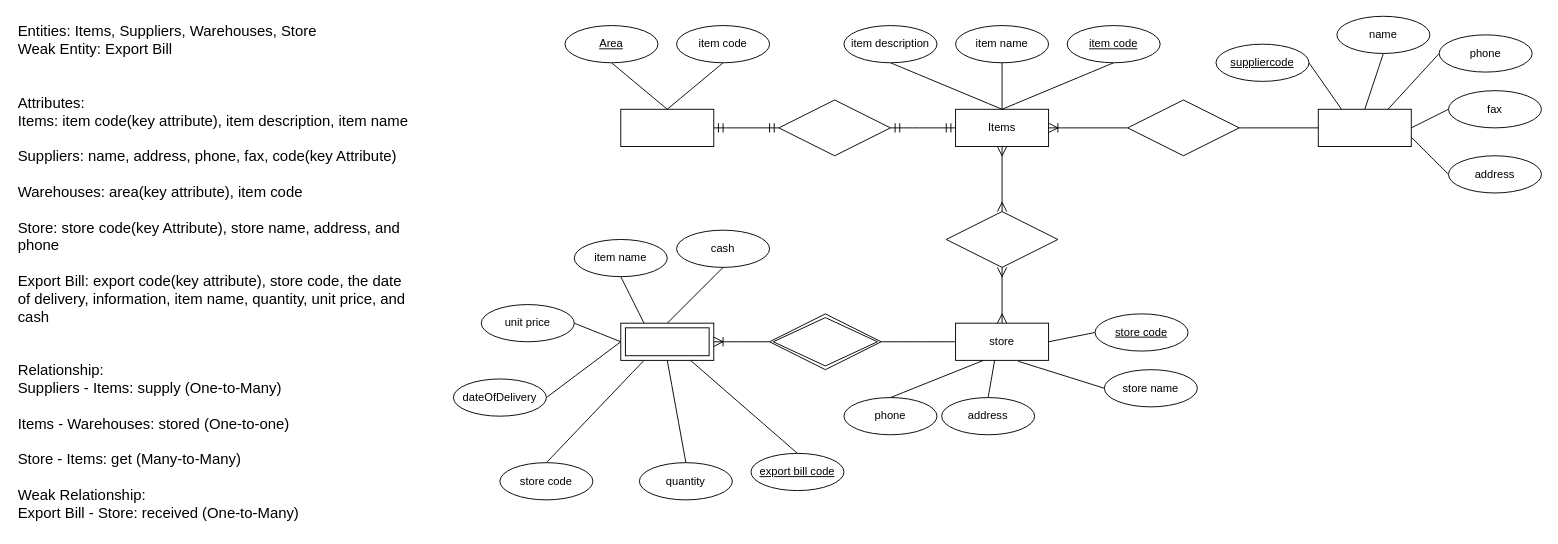
The diagram is 1558 pixels wide and 544 high, and some of its shapes have lost their labels. Each missing label, with the box of its shape:
Export Bill: (620, 322, 714, 360)
get: (945, 211, 1058, 267)
received: (769, 313, 881, 370)
stored: (778, 99, 890, 156)
suppliers: (1317, 108, 1411, 146)
supply: (1127, 99, 1239, 156)
warehouses: (620, 108, 714, 146)
